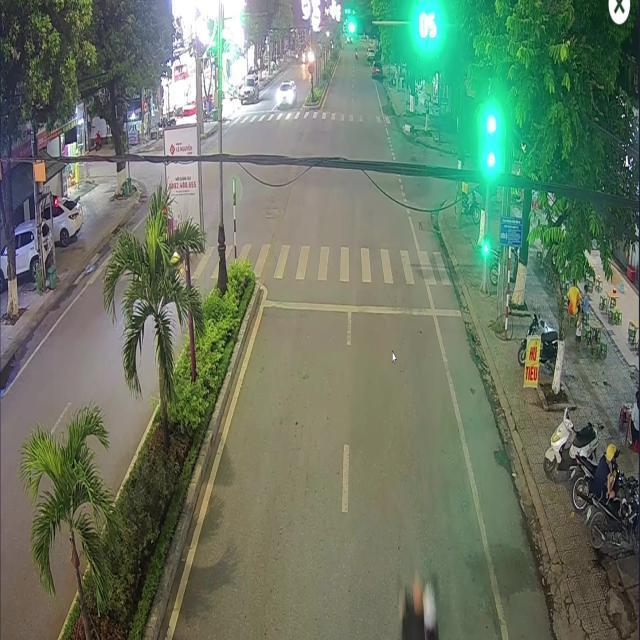green_light: (484, 106, 500, 177), (344, 12, 374, 40)
stop_line: (263, 298, 460, 316)
